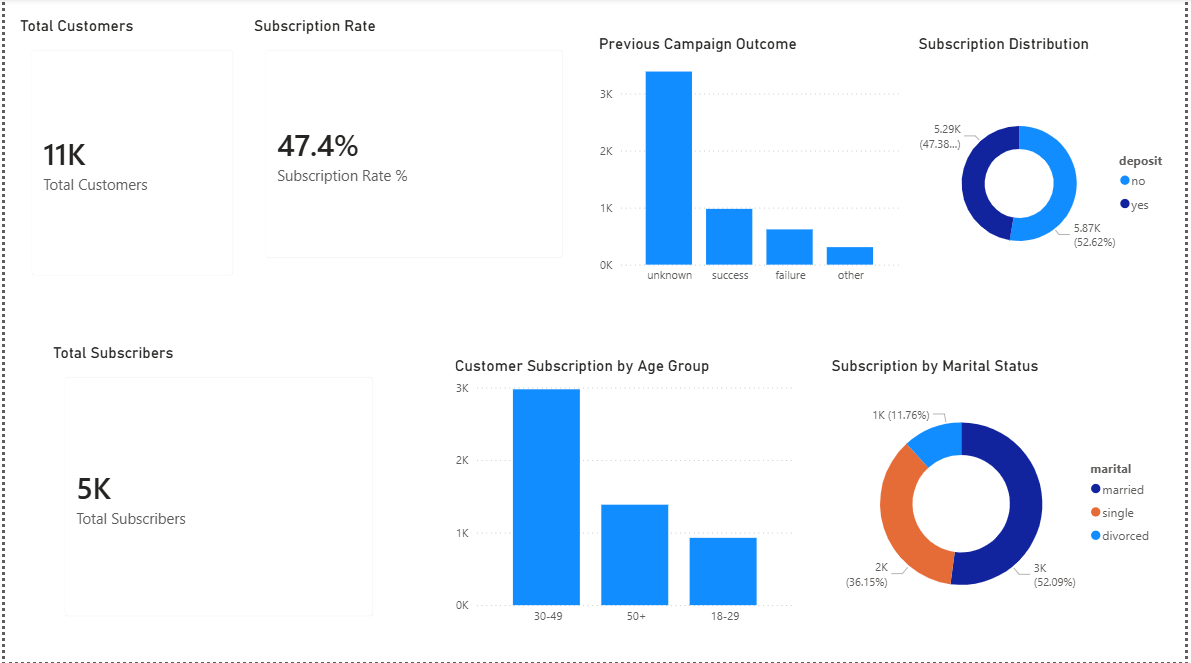

The dashboard page shown, as its layout file describes it:
{"tool":"powerbi","page":{"name":"Page 1","canvas":[1280,720],"ordinal":0},"visuals":[{"type":"cardVisual","title":"Total Customers","fields":{"Data":["clean_bank_data.Total Customers"]},"box":[11.4,19.5,253.7,299.3],"z":0},{"type":"cardVisual","title":"Total Subscribers","fields":{"Data":["clean_bank_data.Total Subscribers"]},"box":[47.2,374.1,369.2,313.9],"z":1},{"type":"cardVisual","title":"Subscription Rate","fields":{"Data":["clean_bank_data.Subscription Rate %"]},"box":[281.4,39,357.8,279.8],"z":2},{"type":"clusteredColumnChart","title":"Customer Subscription by Age Group","fields":{"Category":["clean_bank_data.age_group"],"Y":["Sum(clean_bank_data.subscribed)"]},"box":[483.1,388.7,379,299.3],"z":3},{"type":"clusteredColumnChart","title":"Previous Campaign Outcome","fields":{"Category":["clean_bank_data.poutcome"],"Y":["Sum(clean_bank_data.subscribed)"]},"box":[639.2,39,335.1,279.8],"z":4},{"type":"donutChart","title":"Subscription by Marital Status","fields":{"Category":["clean_bank_data.marital"],"Y":["Sum(clean_bank_data.subscribed)"]},"box":[891.3,388.7,364.3,299.3],"z":5},{"type":"donutChart","title":"Subscription Distribution","fields":{"Category":["clean_bank_data.deposit"],"Y":["CountNonNull(clean_bank_data.deposit)"]},"box":[985.7,39,294.4,304.2],"z":6}]}

Visuals, with their boxes in screenshot pixels (x1, y1, x2, y2), scaled from the page's 1280x720 canvas onto the 1191x663 screenshot:
"Total Customers" cardVisual: locate(11, 18, 247, 294)
"Total Subscribers" cardVisual: locate(44, 344, 387, 634)
"Subscription Rate" cardVisual: locate(262, 36, 595, 294)
"Customer Subscription by Age Group" clusteredColumnChart: locate(450, 358, 802, 634)
"Previous Campaign Outcome" clusteredColumnChart: locate(595, 36, 907, 294)
"Subscription by Marital Status" donutChart: locate(829, 358, 1168, 634)
"Subscription Distribution" donutChart: locate(917, 36, 1190, 316)
